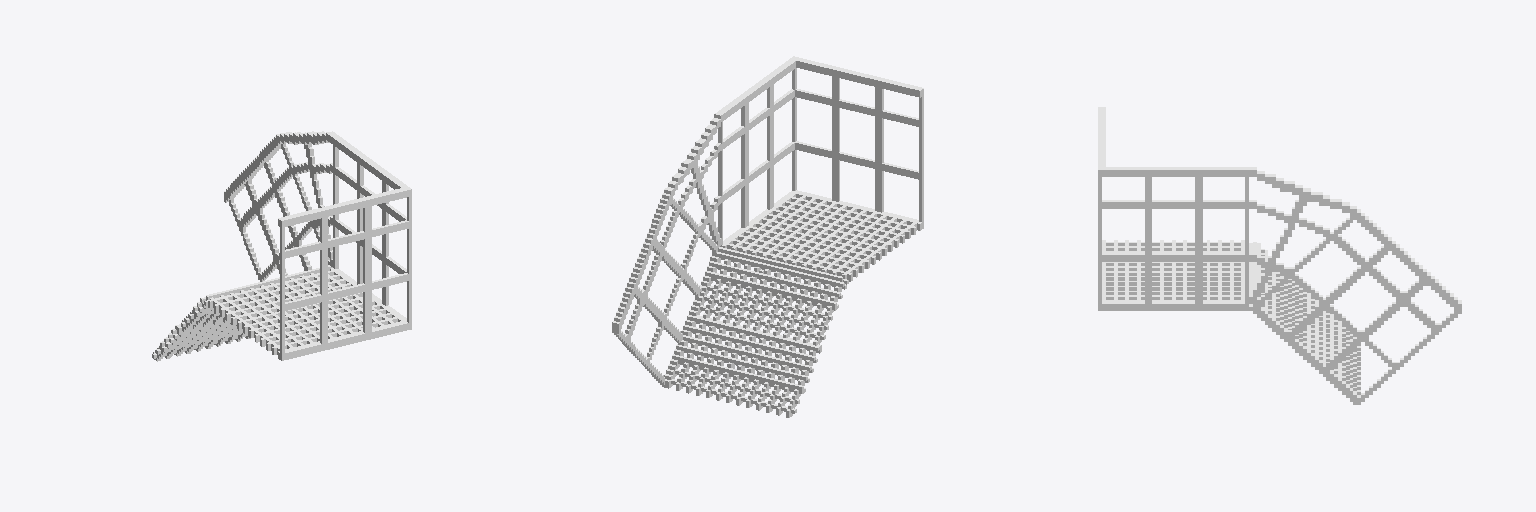
The model's file is emergency_exit_stair_down.obj.
3 renders of one model, left to right at view 1: azimuth 30°, elevation 25°; view 2: azimuth 150°, elevation 25°; view 3: azimuth 270°, elevation 25°, orthographic.
Visible parts, largest first — view 1: object 1; view 2: object 1; view 3: object 1.
Boxes of the visible parts, x1=… form: object 1: x1=152, y1=131, x2=411, y2=361; object 1: x1=612, y1=56, x2=923, y2=417; object 1: x1=1098, y1=107, x2=1461, y2=404.
Size of the model in its own units: 3.9 by 6.7 by 9.4.